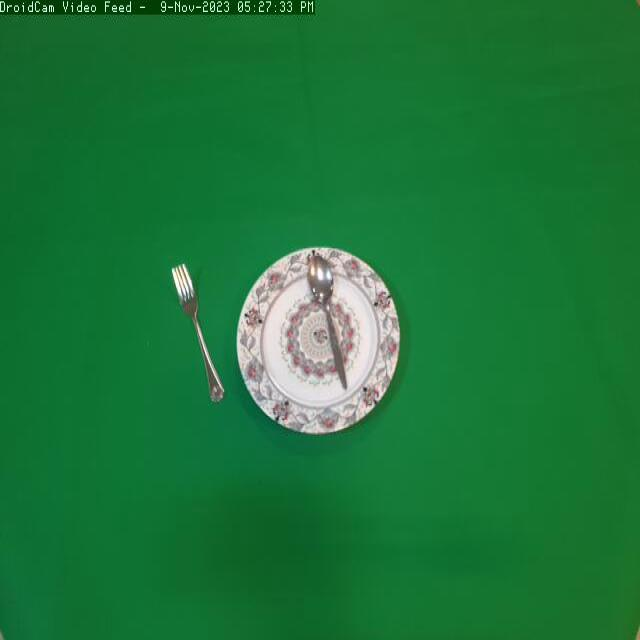fork: (166, 245, 232, 411)
plate: (232, 239, 405, 452)
spoon: (300, 250, 364, 390)
